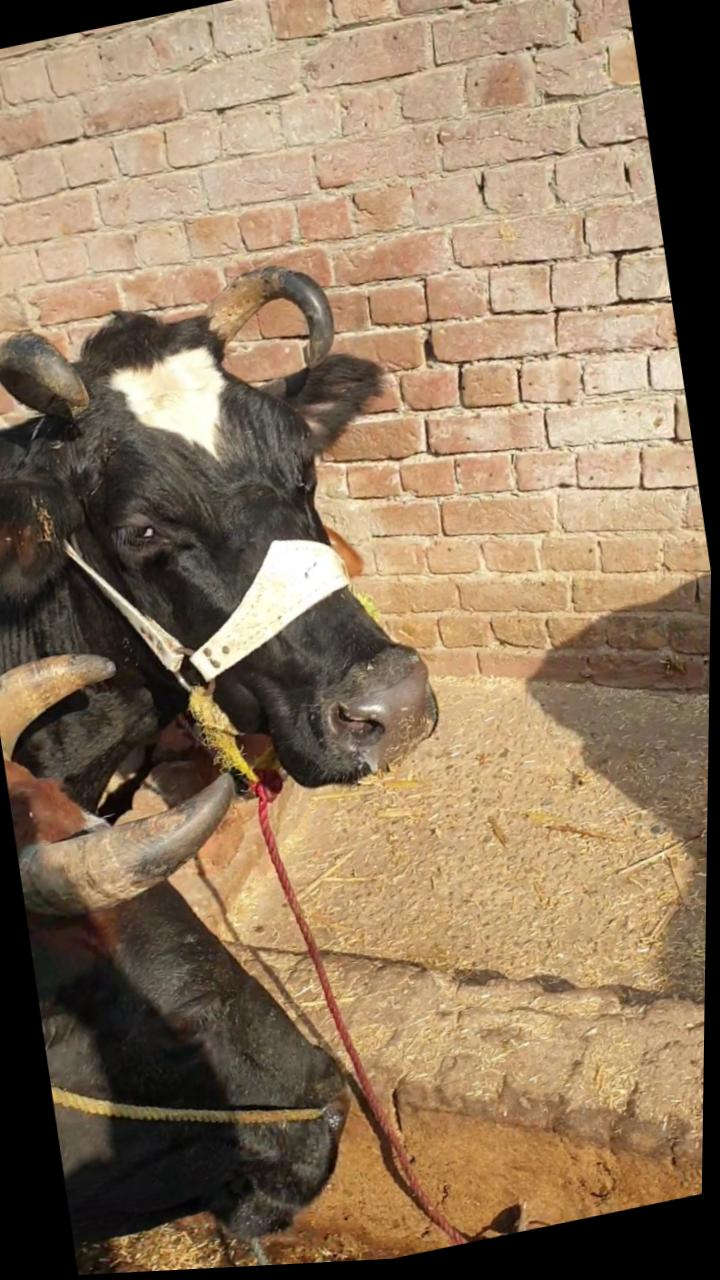cows: (22, 174, 518, 812), (0, 626, 396, 1272)
